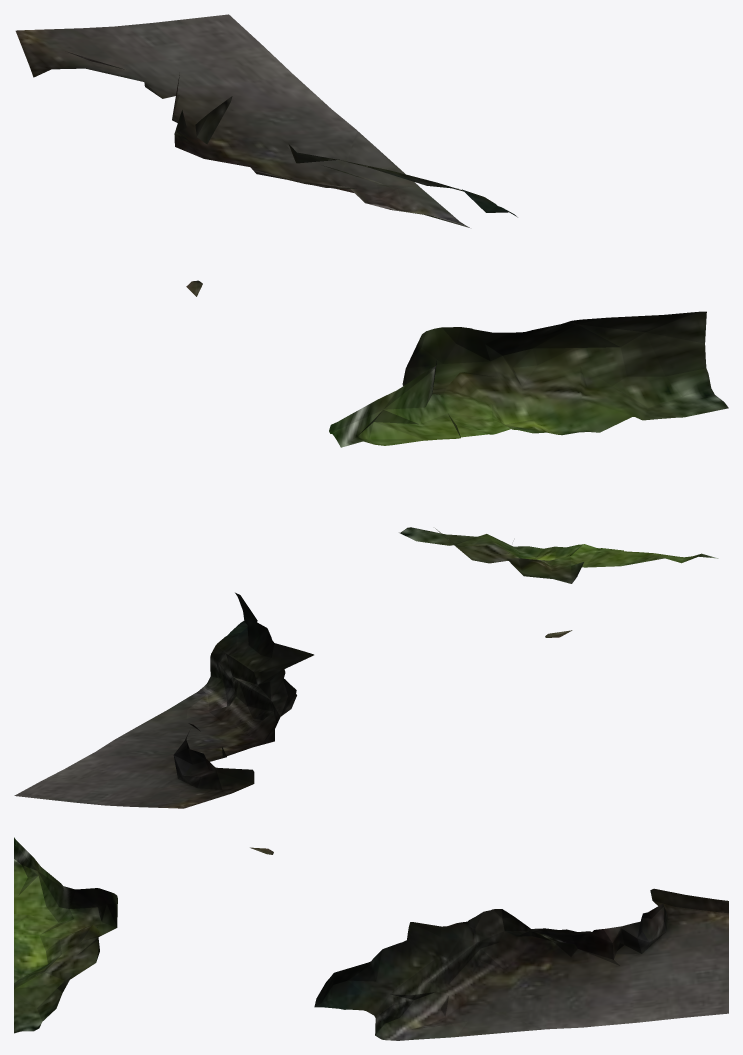
The picture shows the model from 3 angles, top to bottom: view 1: azimuth 30°, elevation 25°; view 2: azimuth 150°, elevation 25°; view 3: azimuth 270°, elevation 25°; orthographic projection. The views are drawn at different scales.
Size of the model in its own units: 3.1 by 0.6715 by 6.7.
Materials: 1 (1 with a texture image).
